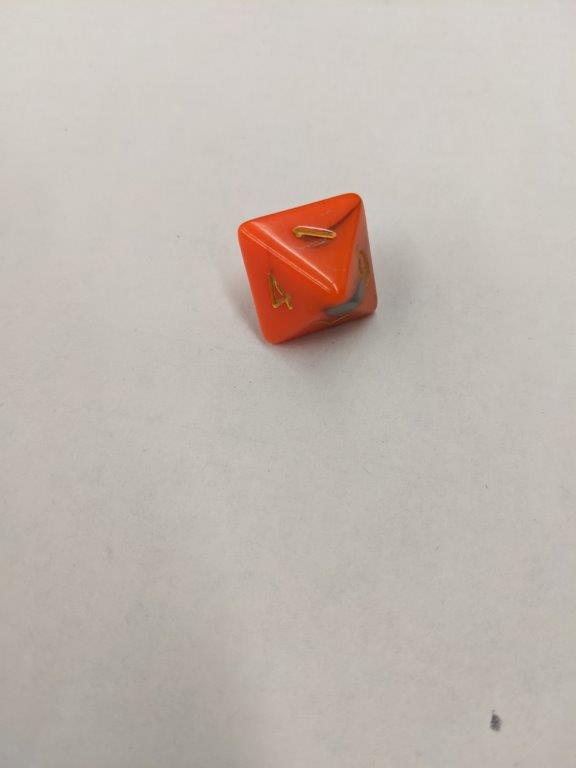d8-1: (234, 191, 381, 348)
